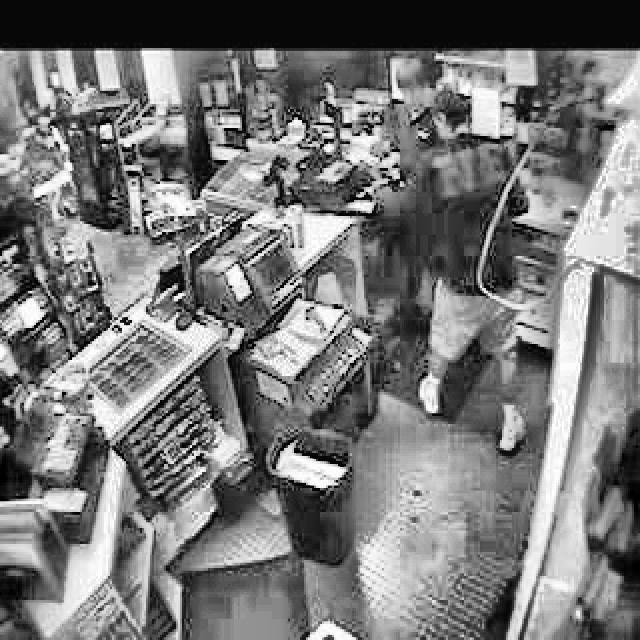Weapon: (381, 51, 561, 494)
